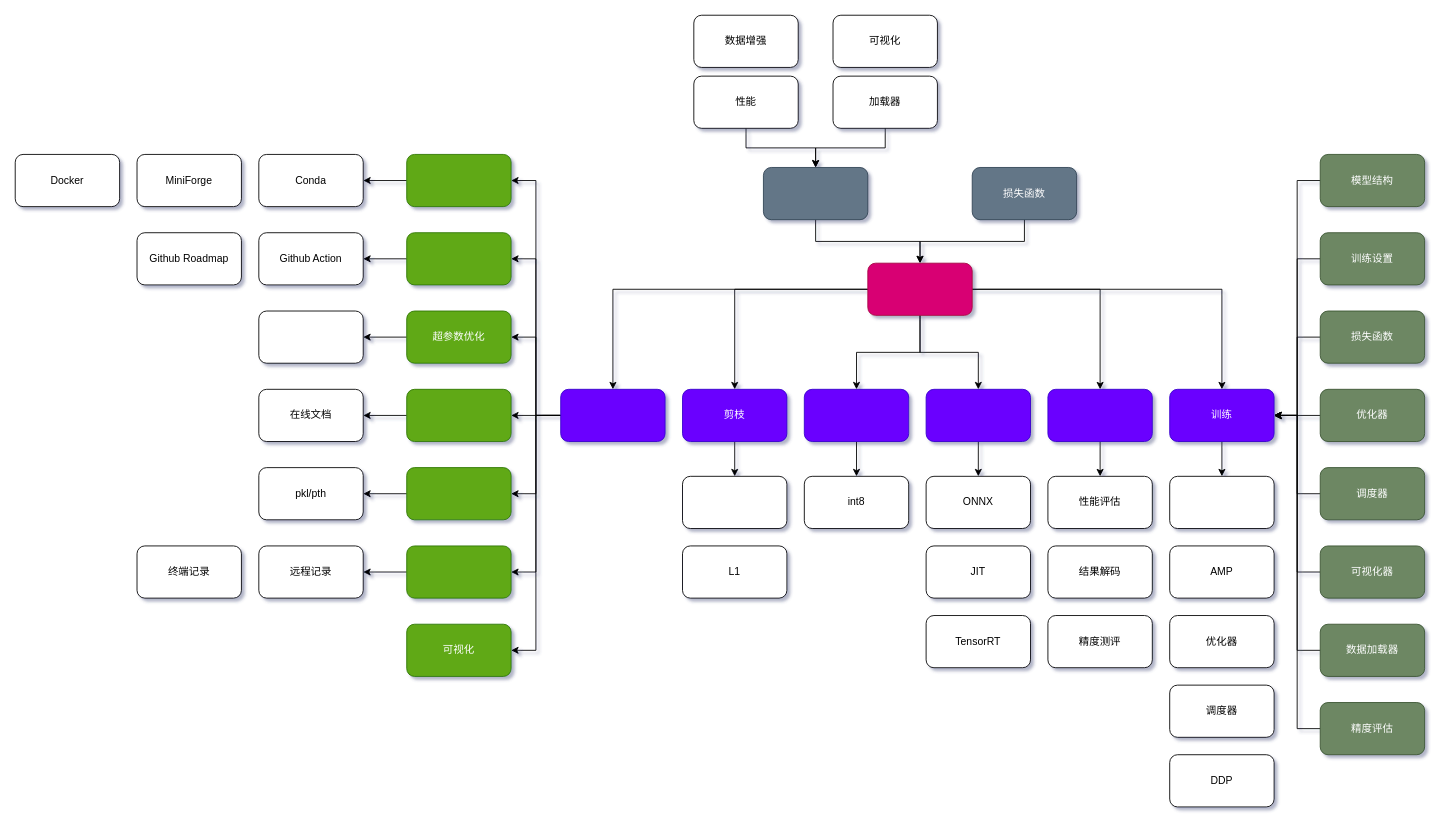
Image size: 1445x827. Some labels were removed from this diagram. The centre of each missing label's shape, as x and y in pixels:
"EMA" belongs at (1221,502).
"github集成" belongs at (458,258).
"Optuna" belongs at (310,336).
"Random" belongs at (734,502).
"参数存储" belongs at (458,493).
"导出" belongs at (978,415).
"推理" belongs at (1099,415).
"数据集" belongs at (815,193).
"文档" belongs at (458,415).
"日志" belongs at (458,571).
"模型" belongs at (919,288).
"环境管理" belongs at (458,180).
"蒸馏" belongs at (612,415).
"量化" belongs at (856,415).
